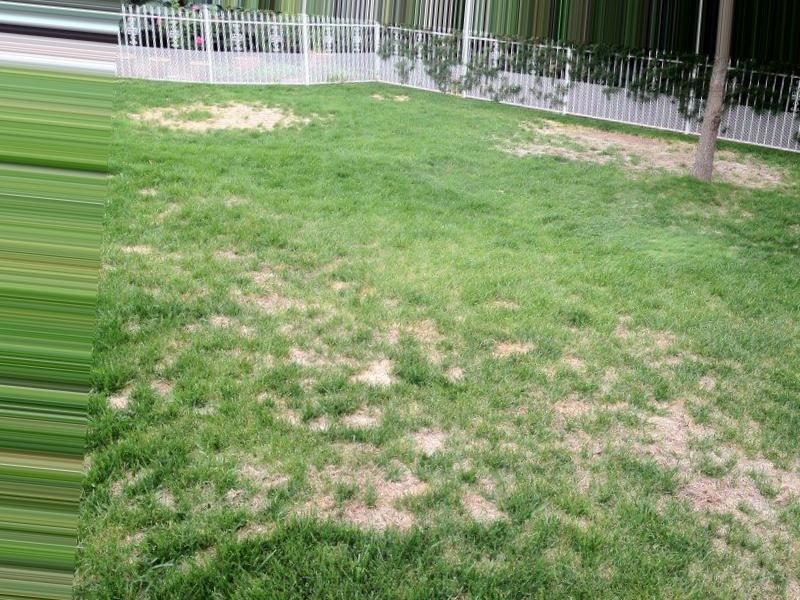patch: (321, 329, 624, 469), (349, 455, 409, 520), (562, 134, 651, 164), (638, 417, 682, 458), (210, 108, 270, 127)
